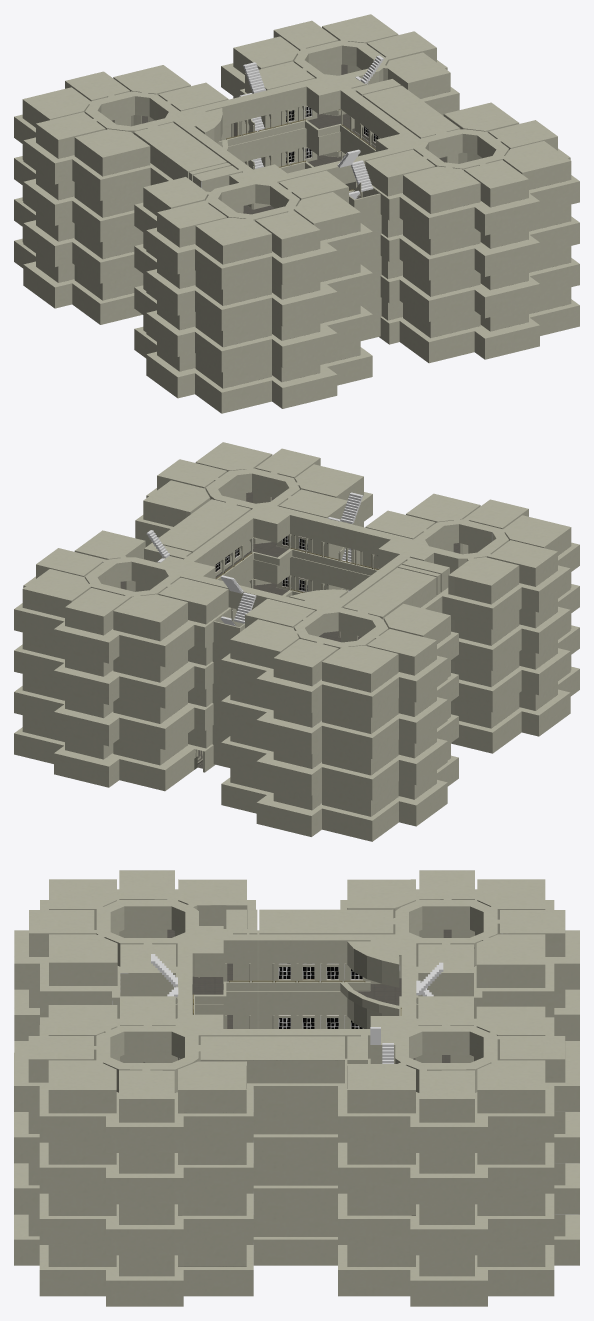
File: main_block_test-9.1.fbx
3 views of the same model, one above another, from view 1: azimuth 30°, elevation 25°; view 2: azimuth 150°, elevation 25°; view 3: azimuth 270°, elevation 25° (orthographic). The views are drawn at different scales.
Visible parts, largest first — view 1: f2.bake, Cube.015, Cube.014; view 2: f2.bake, Cube.014, Cube.015; view 3: f2.bake.
Boxes of the visible parts, <box> form: f2.bake: <box>14,14,579,413</box>; Cube.015: <box>337,149,373,199</box>; Cube.014: <box>239,62,265,168</box>; f2.bake: <box>14,442,579,841</box>; Cube.014: <box>221,575,256,626</box>; Cube.015: <box>327,492,363,591</box>; f2.bake: <box>14,870,579,1306</box>.
Bounding box in the file's own units: 8437 × 3841 × 8502.
2 materials, 1 textured.
